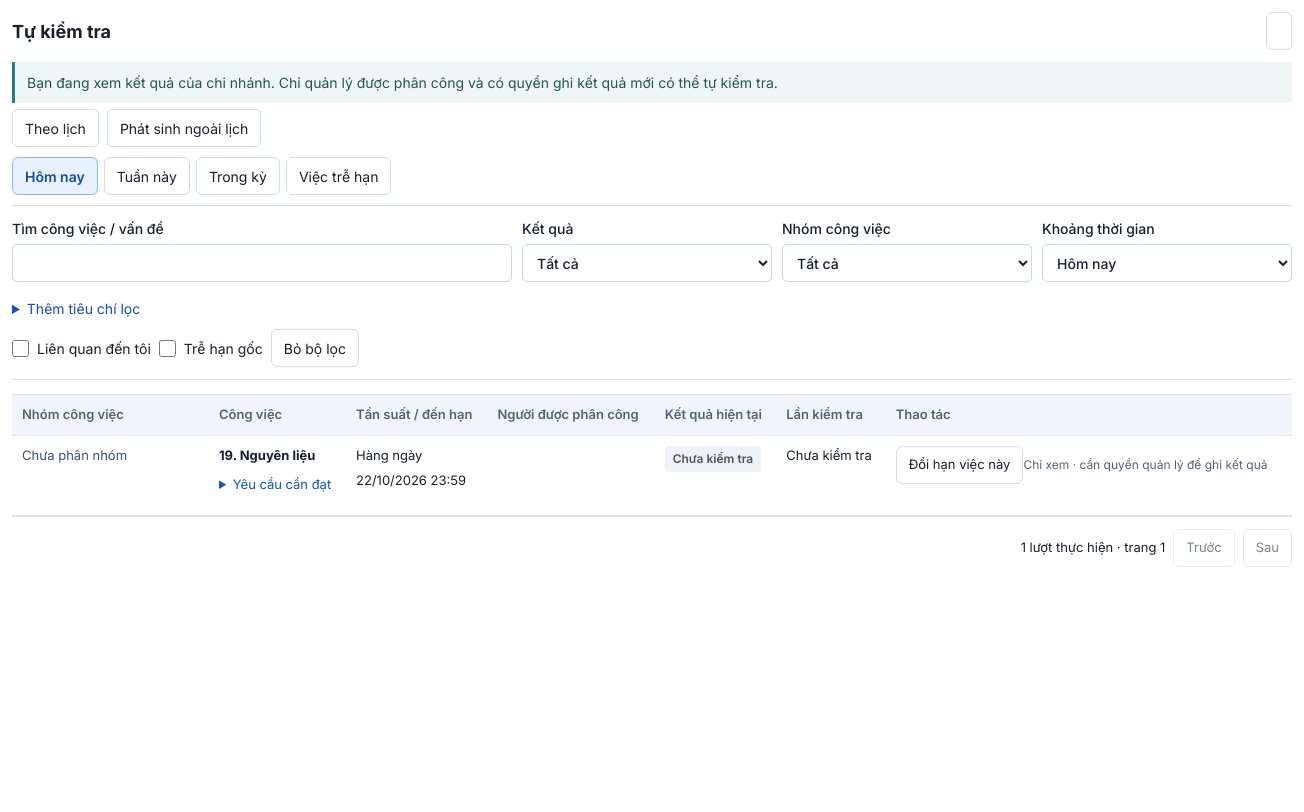
it: CEO and manager Hub journey › shows source numbers and requirements without giving an owner manager-write access
The image size is (1304, 812).
Click the heading "Yêu cầu cần đạt": {"x": 282, "y": 484} [233,476,331,492]
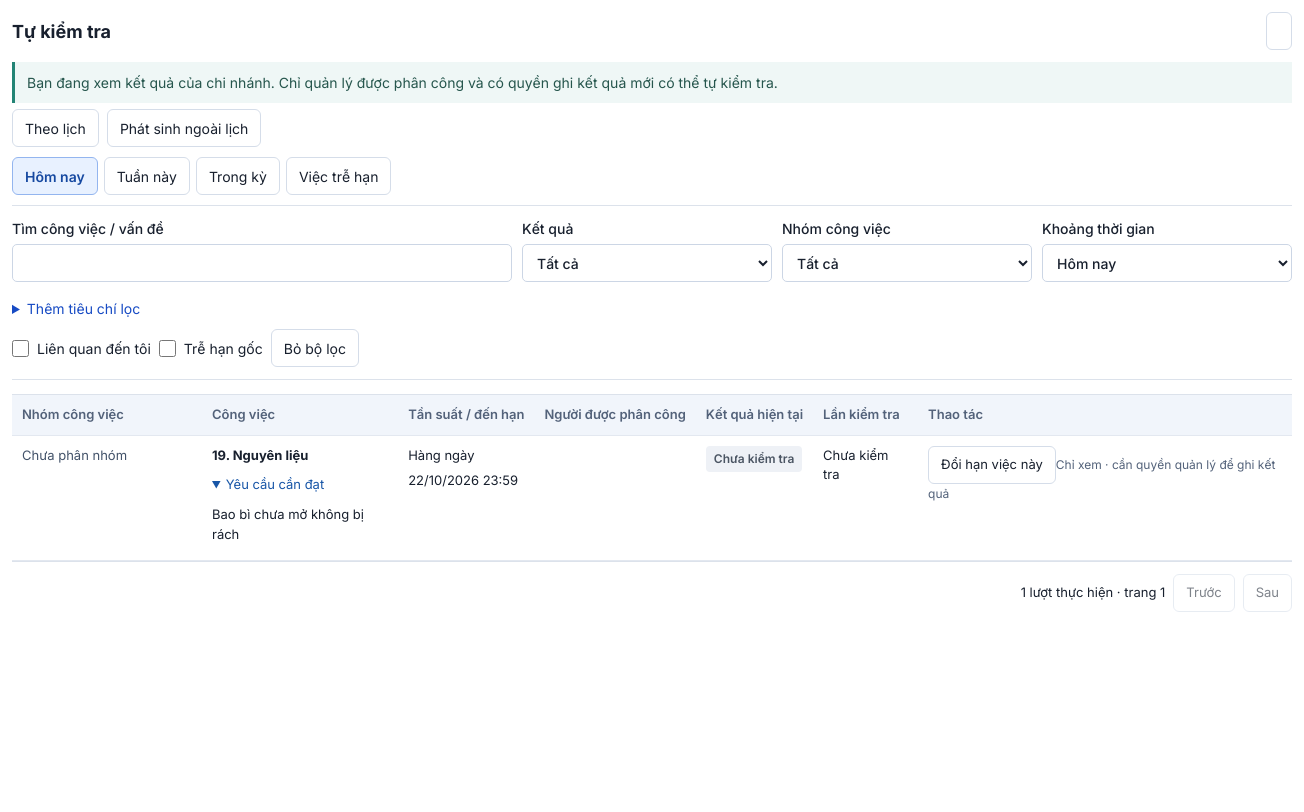
Expected: the text "1 lượt thực hiện · trang 1" is shown, [1021,583,1165,603]
Expected: the text "Bao bì chưa mở không bị rách" is shown, [212,505,388,544]
